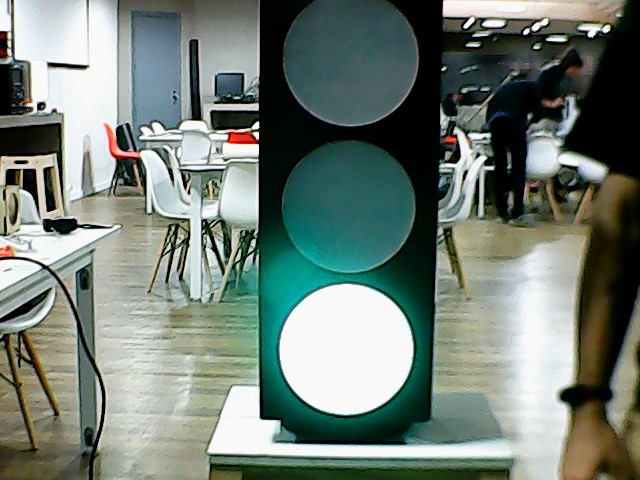verde: (238, 1, 439, 428)
